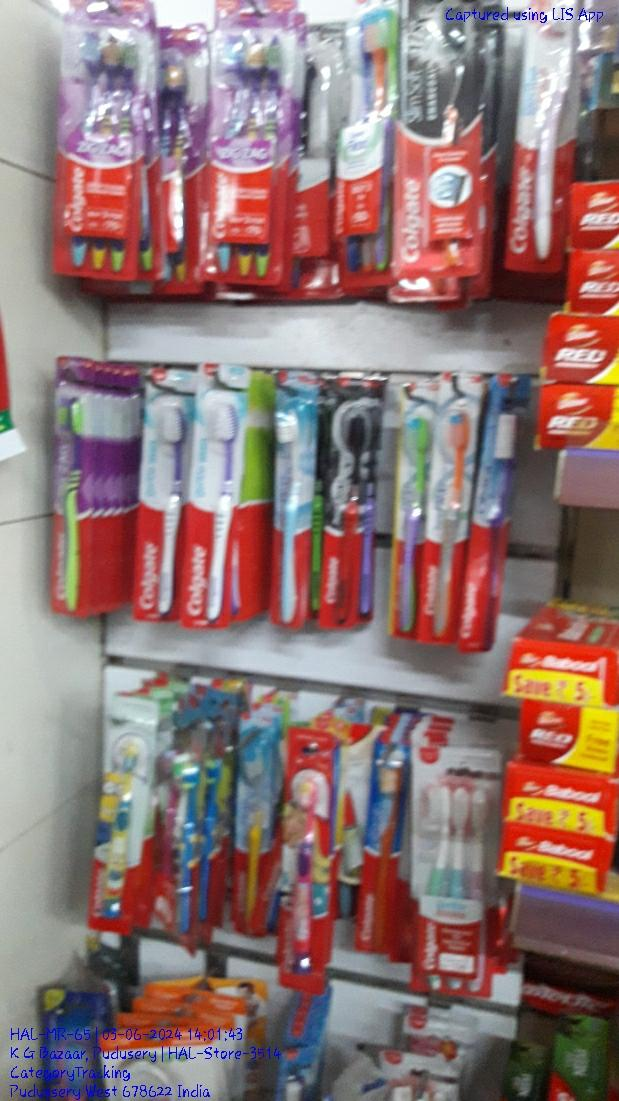soap: (397, 5, 482, 273)
